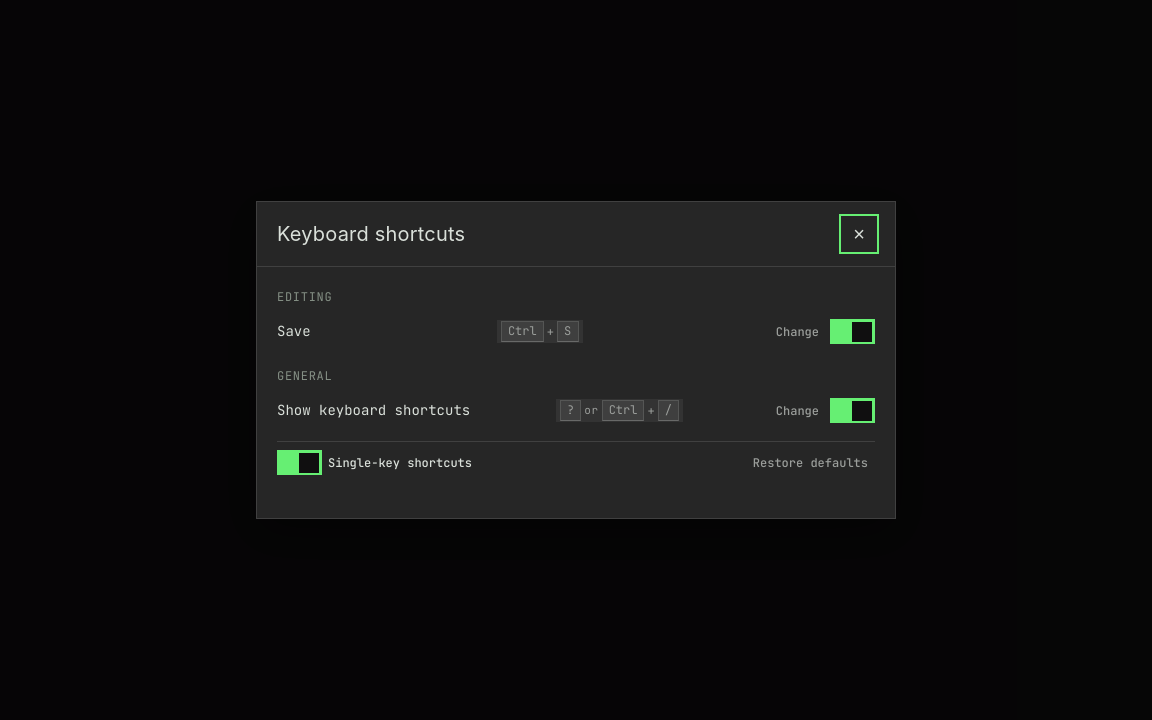
ShortcutsHelp — editable mode (DS-0141) › Escape cancels recording without changing the binding
Click the button "Change" in the row of "Save" at (797,332), box [769,320,826,344]
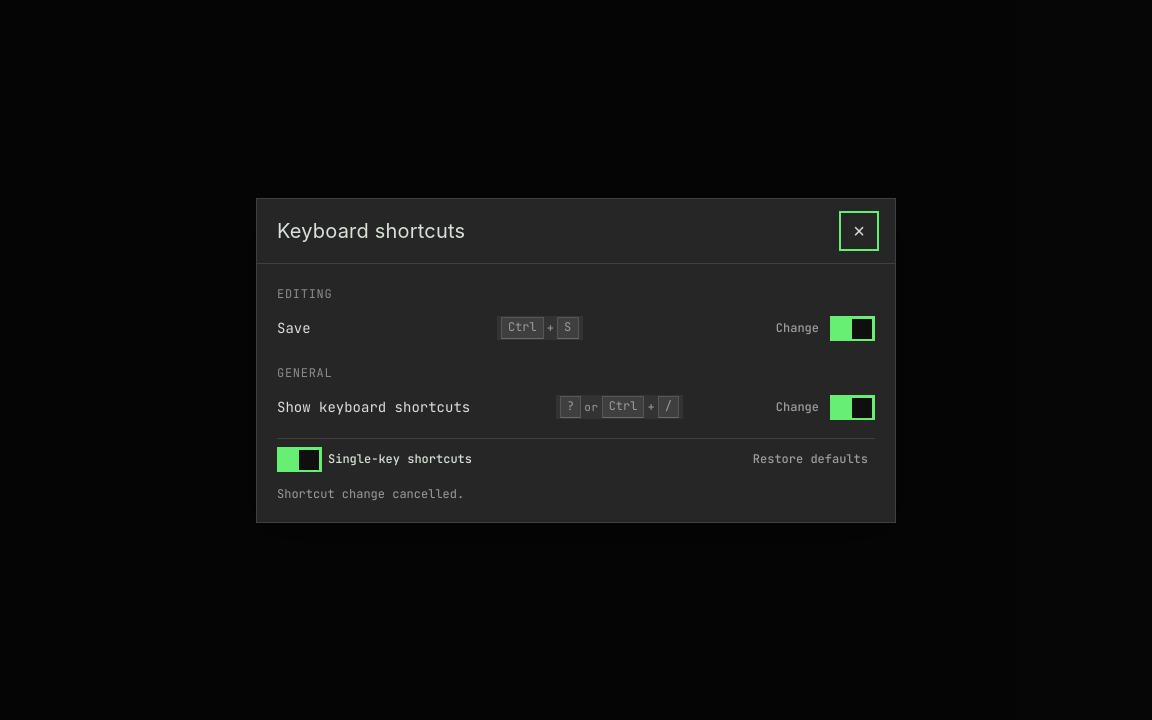
Now the message with class "status" reads "Shortcut change cancelled.", box [277,486,464,502]
